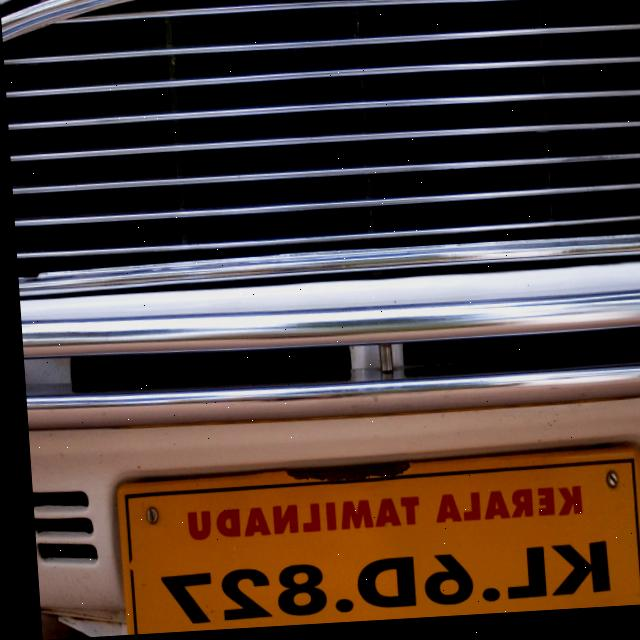plate: (108, 449, 640, 636)
